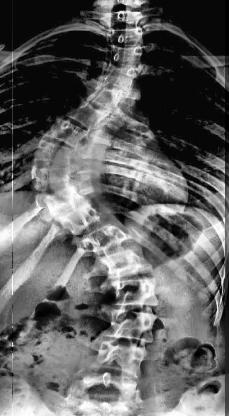Vertebrae: (99, 308, 156, 342), (87, 344, 149, 375), (102, 248, 152, 280), (59, 206, 109, 235), (32, 165, 80, 194), (108, 280, 158, 307), (68, 100, 106, 132), (41, 188, 87, 214), (32, 141, 78, 167), (46, 120, 88, 148), (86, 226, 130, 252), (100, 68, 138, 96), (102, 24, 146, 46), (88, 87, 122, 113), (108, 46, 143, 70), (102, 8, 144, 28)
